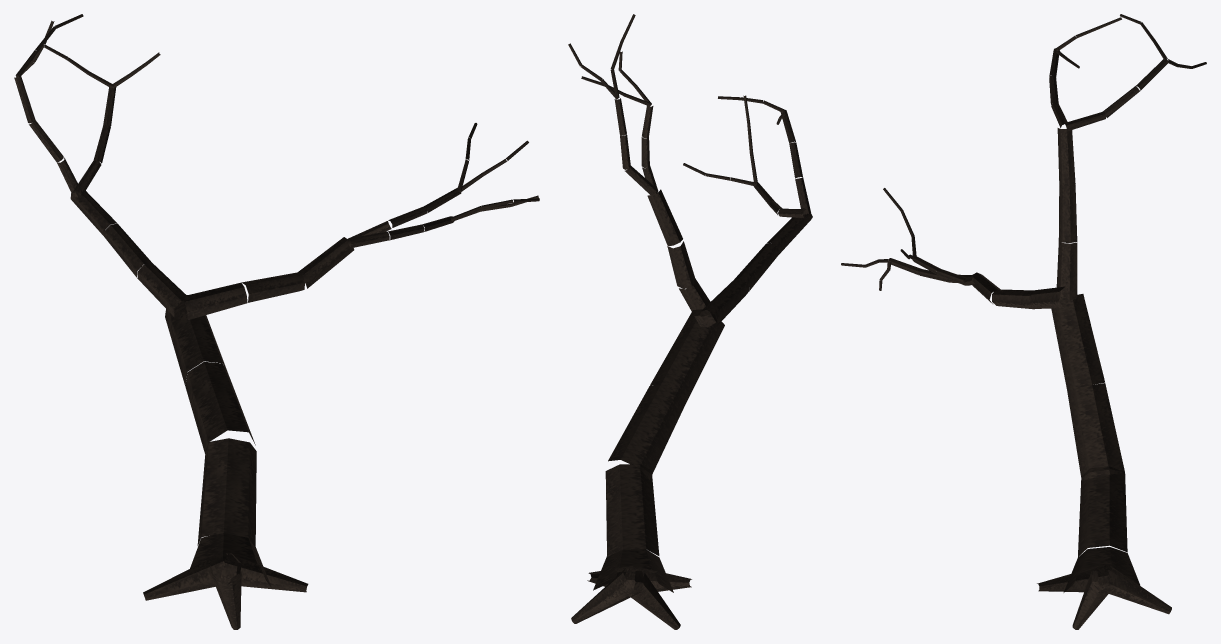
Rendered from mm_tree2.glb.
The picture shows the model from 3 angles, left to right: view 1: azimuth 30°, elevation 25°; view 2: azimuth 150°, elevation 25°; view 3: azimuth 270°, elevation 25°; orthographic projection. The views are drawn at different scales.
Parts seen in each view (by area): view 1: bark; view 2: bark; view 3: bark.
Part boxes in pixels (x1,y1,x2,y2): bark: [14, 14, 539, 629]; bark: [568, 14, 812, 629]; bark: [841, 14, 1206, 629].
Bounding box in the file's own units: 5.64 × 8.96 × 5.59.
1 material, 1 textured.
